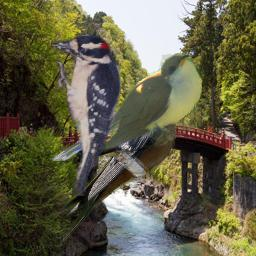Cuckoo: (50, 53, 202, 161)
Swallow: (60, 95, 176, 242)
Woodpecker: (51, 31, 124, 196)
